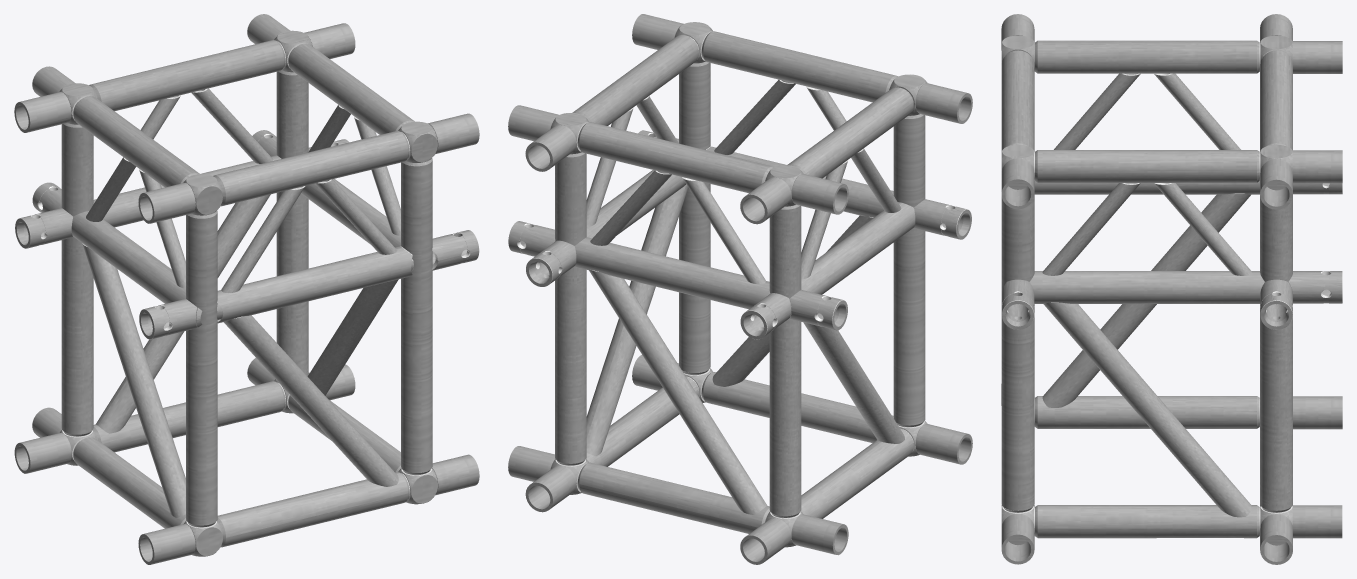
File: Milos_M760_RHC_Custom_MFS_Multicube_corner-464f7de8.glb
3 renders of one model, left to right at view 1: azimuth 30°, elevation 25°; view 2: azimuth 150°, elevation 25°; view 3: azimuth 270°, elevation 25°, orthographic. The views are drawn at different scales.
Visible parts, largest first — view 1: Geom3D (×3), Geom3D_ (×13); view 2: Geom3D (×3), Geom3D_ (×14); view 3: Geom3D (×2), Geom3D_ (×11).
Part boxes in pixels (x1,y1,x2,y2): Geom3D (×3): (15,30,479,556); Geom3D_ (×13): (14,14,479,564); Geom3D (×3): (508,22,971,547); Geom3D_ (×14): (508,14,972,564); Geom3D (×2): (1001,35,1342,538); Geom3D_ (×11): (1001,14,1342,564).
Size of the model in its own units: 0.7089 by 0.7714 by 0.6184.
2 materials, 1 textured.
